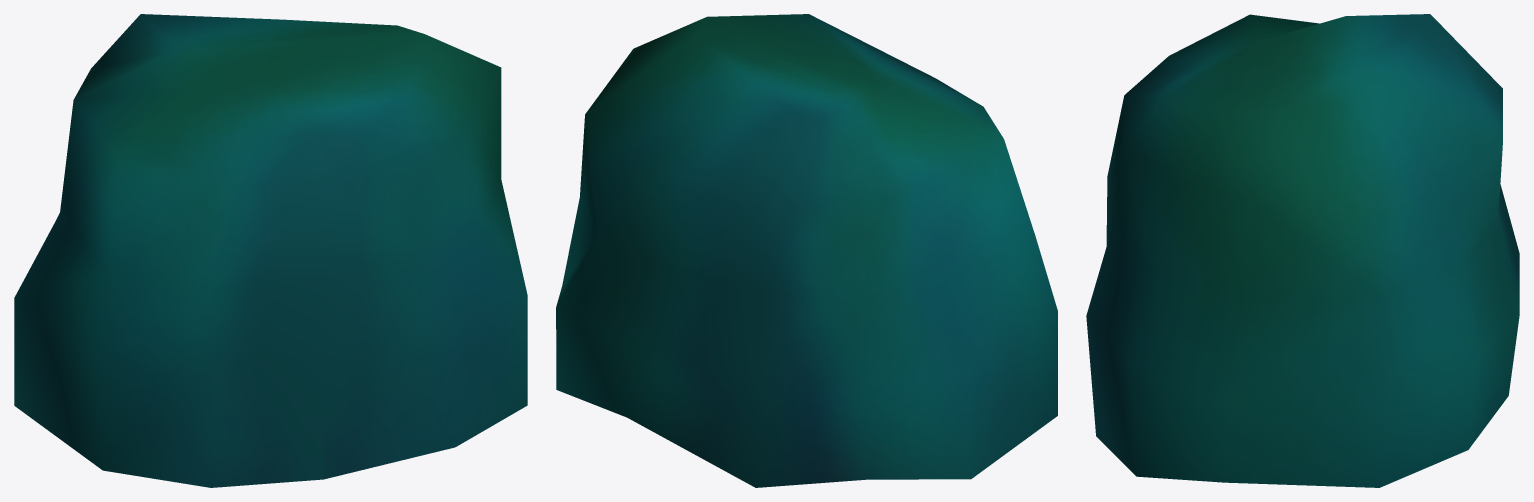
The model's file is boulder_01.fbx.
3 views of the same model, side by side, from view 1: azimuth 30°, elevation 25°; view 2: azimuth 150°, elevation 25°; view 3: azimuth 270°, elevation 25° (orthographic). The views are drawn at different scales.
Visible parts, largest first — view 1: polySurface219; view 2: polySurface219; view 3: polySurface219.
Boxes of the visible parts, x1,y1,x2,y2 form: polySurface219: [14, 14, 527, 487]; polySurface219: [556, 14, 1057, 487]; polySurface219: [1086, 14, 1519, 487].
Bounding box in the file's own units: 41.52 × 32.5 × 36.47.
